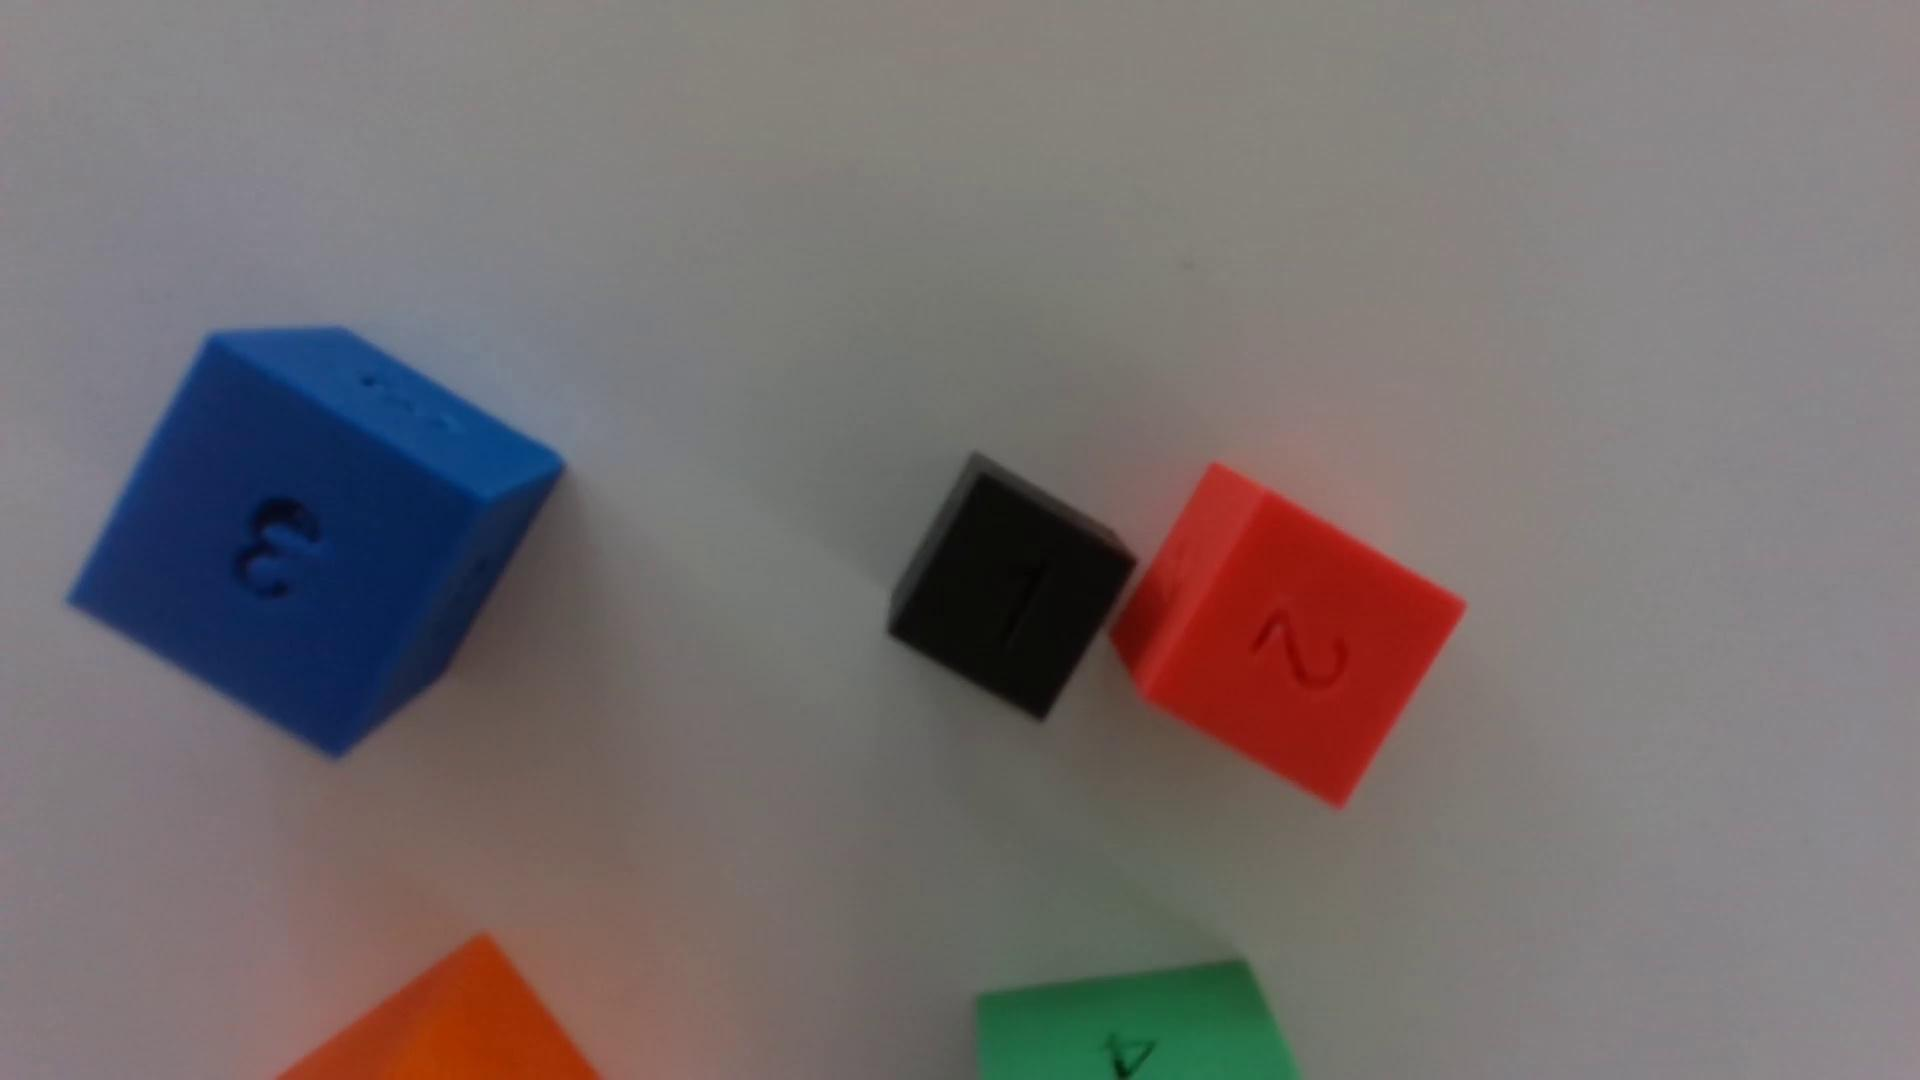black: (887, 455, 1135, 721)
blue: (70, 328, 564, 757)
green: (975, 961, 1298, 1080)
orange: (280, 935, 599, 1080)
red: (1112, 464, 1465, 808)
